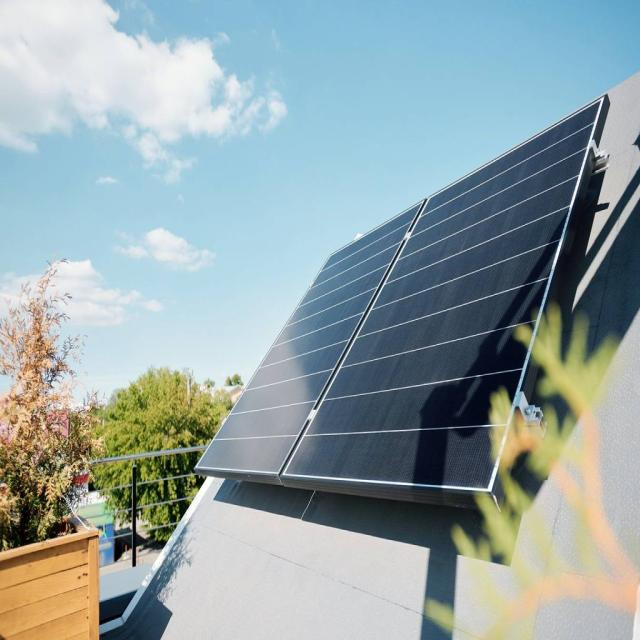clean-solar-panel: (198, 97, 609, 502)
